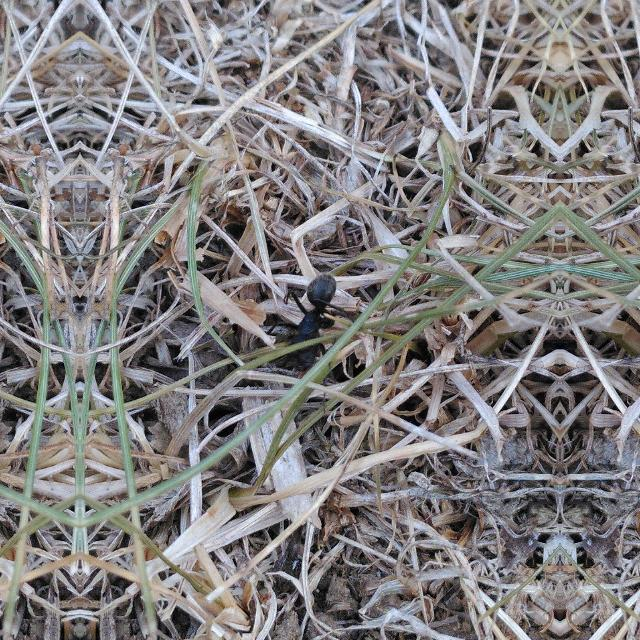Camponotus: (262, 252, 356, 396)
